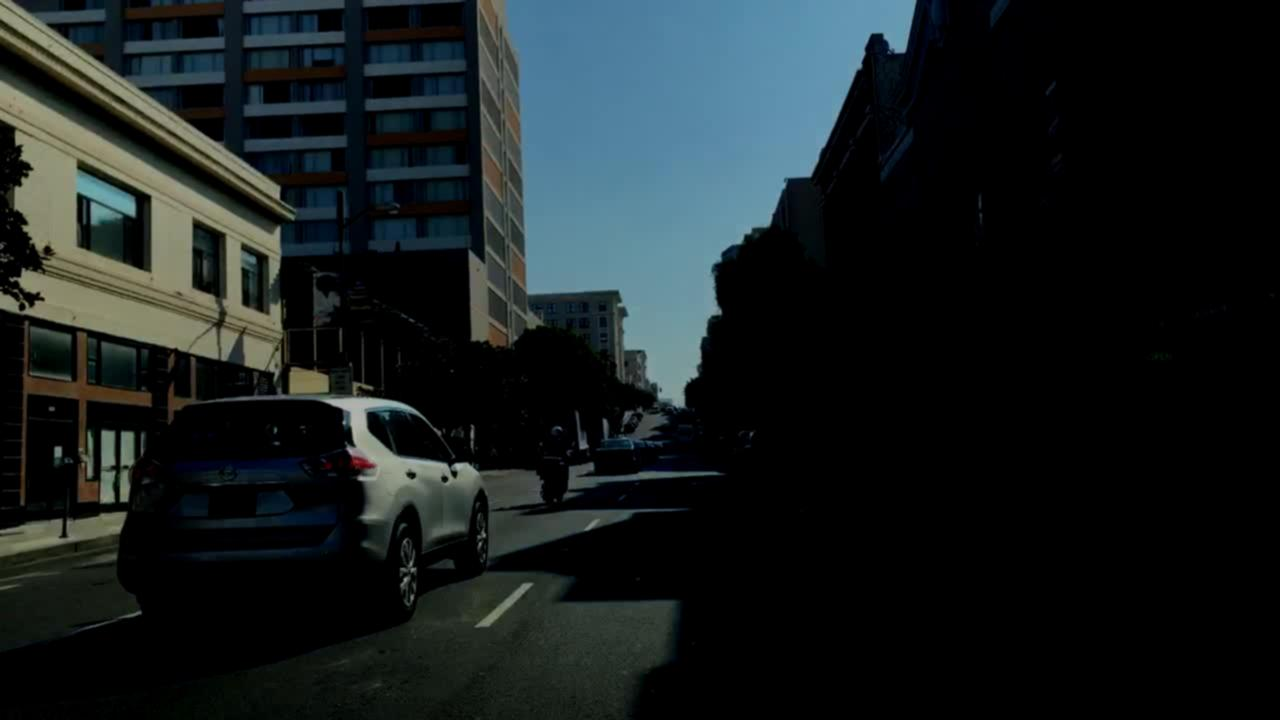Nissan: (211, 463, 242, 487)
